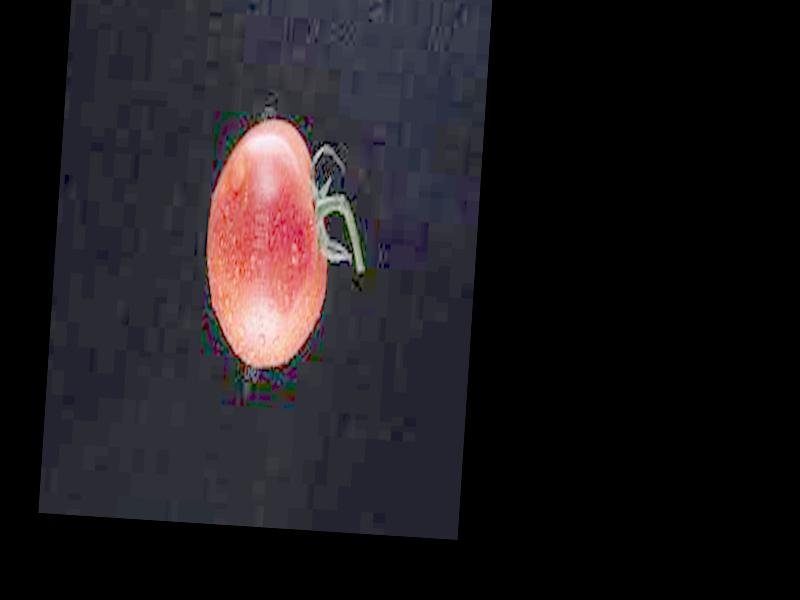Tomato: (199, 116, 337, 372)
